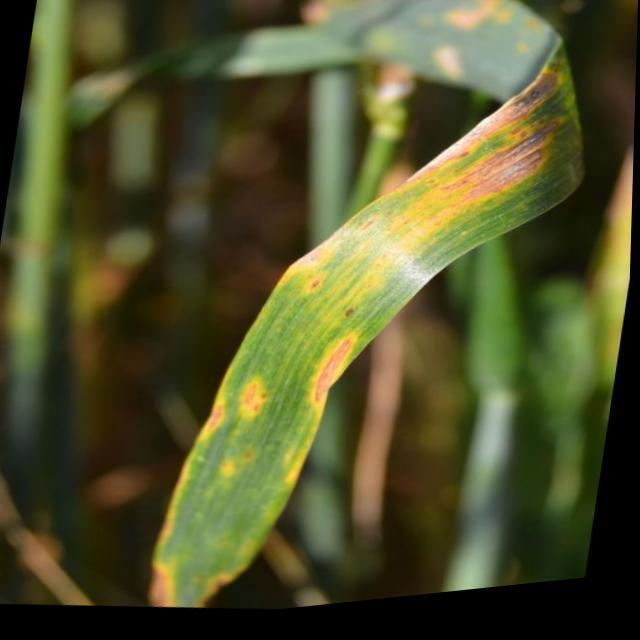Septoria: (148, 0, 586, 611)
